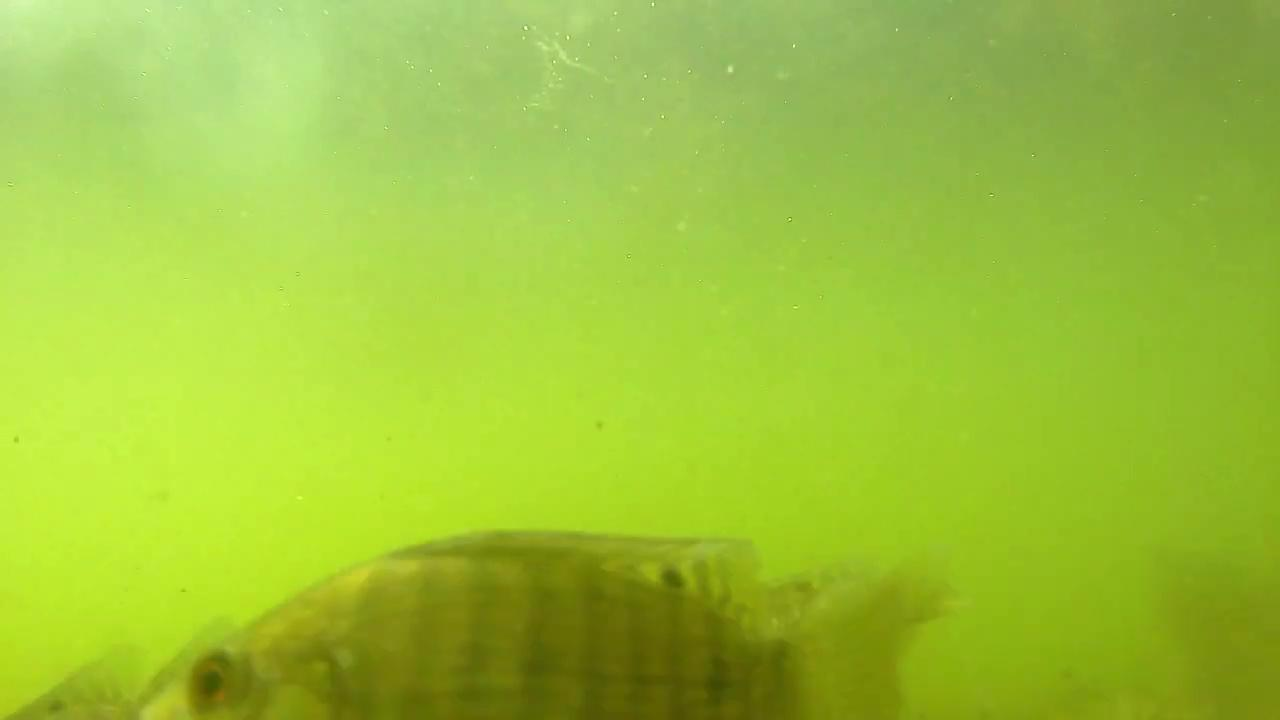Tilapia: (143, 522, 932, 720)
